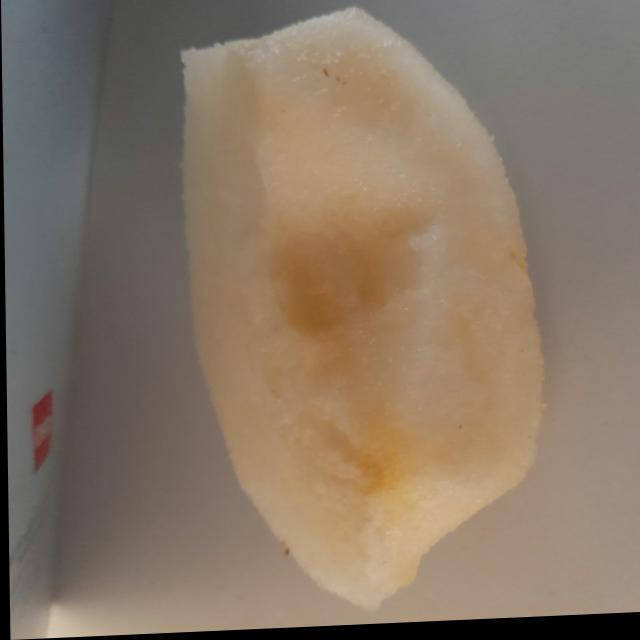Le: (170, 2, 557, 619)
